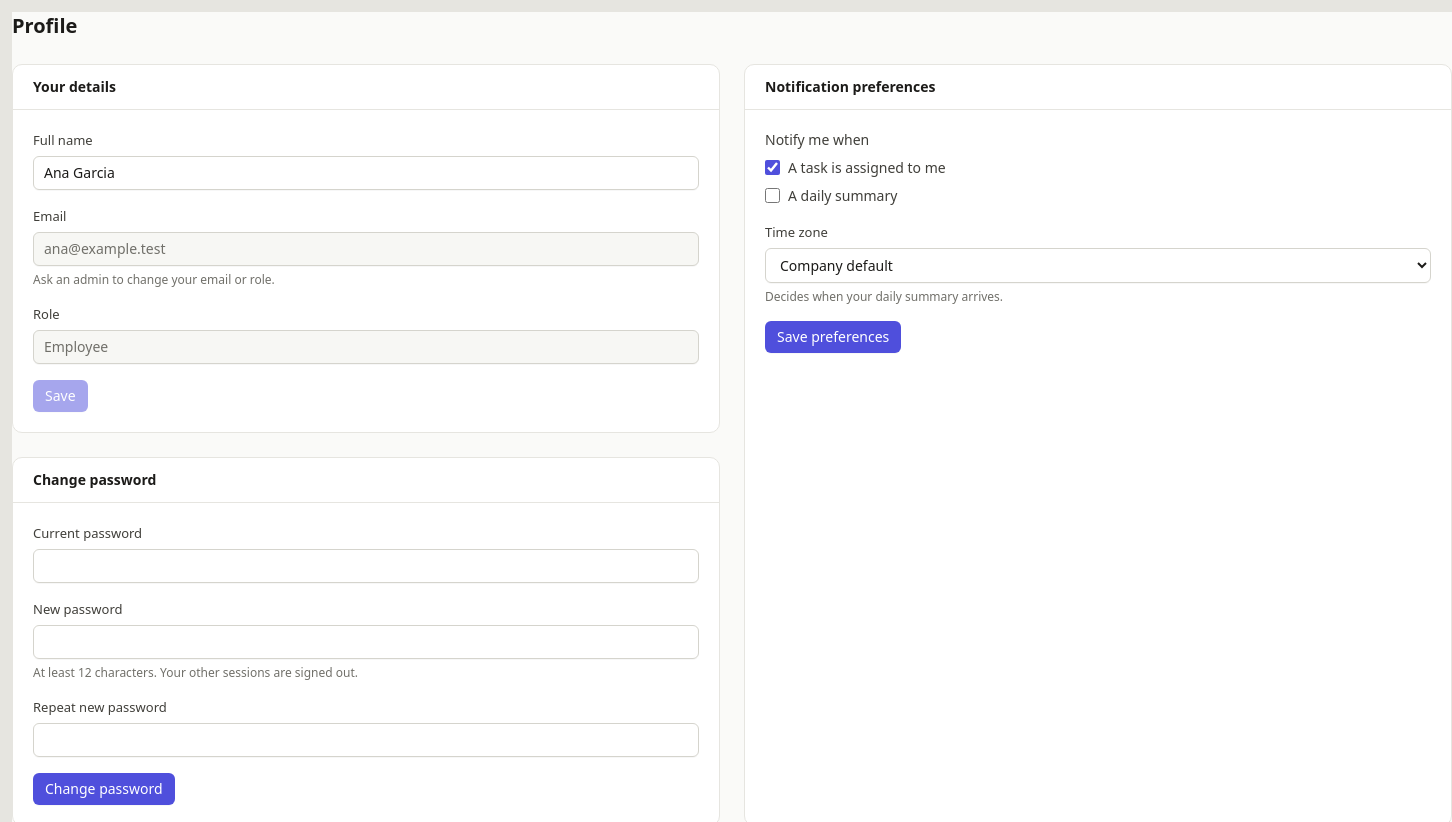
Test: password › shows other failures
Step 1. Type "current" into the password field labelled "Current password" → (366, 566), box [33, 549, 699, 583]
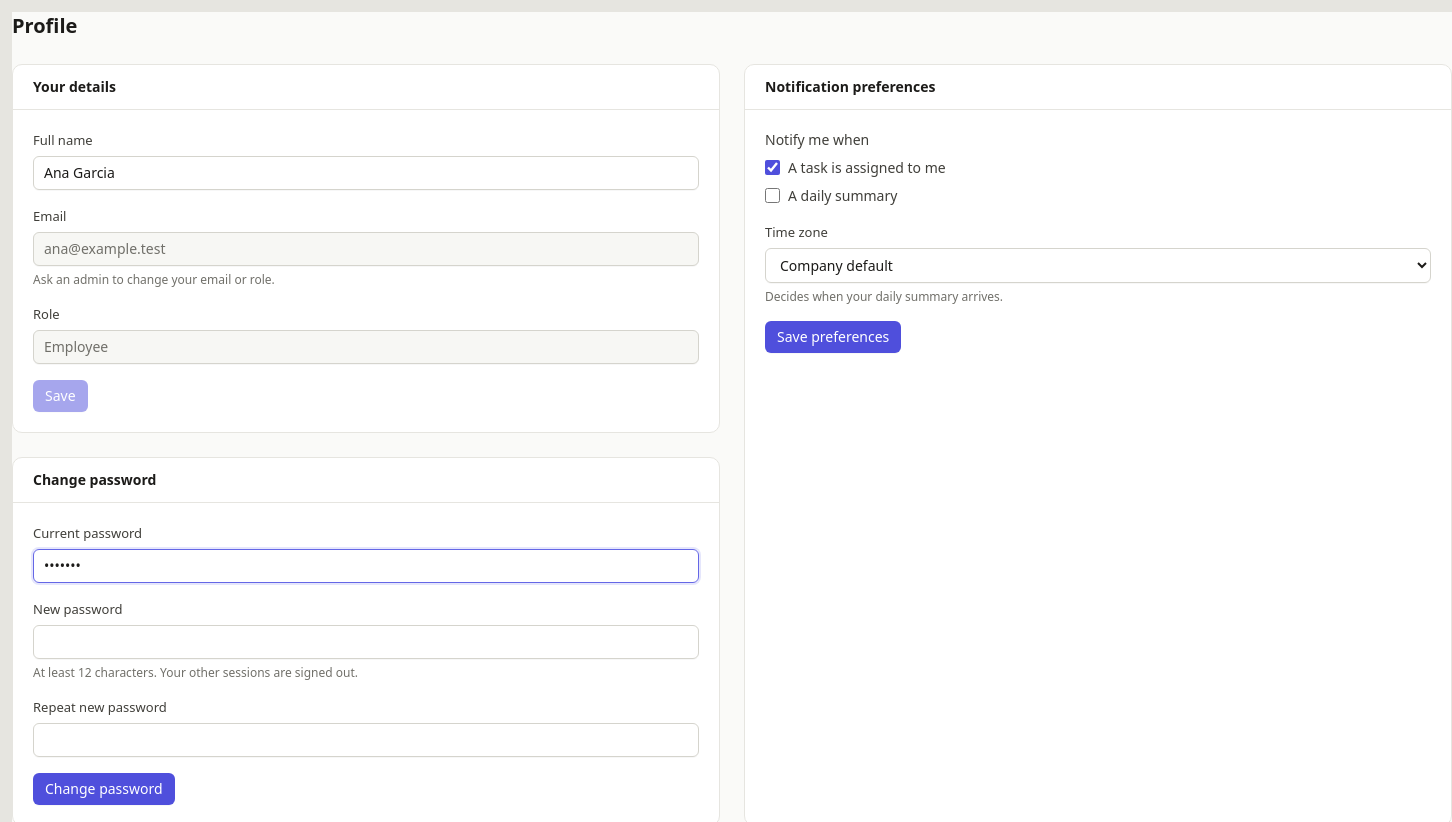
Step 2. Type "a-long-enough-password" into the password field labelled "New password" → (366, 642), box [33, 625, 699, 659]
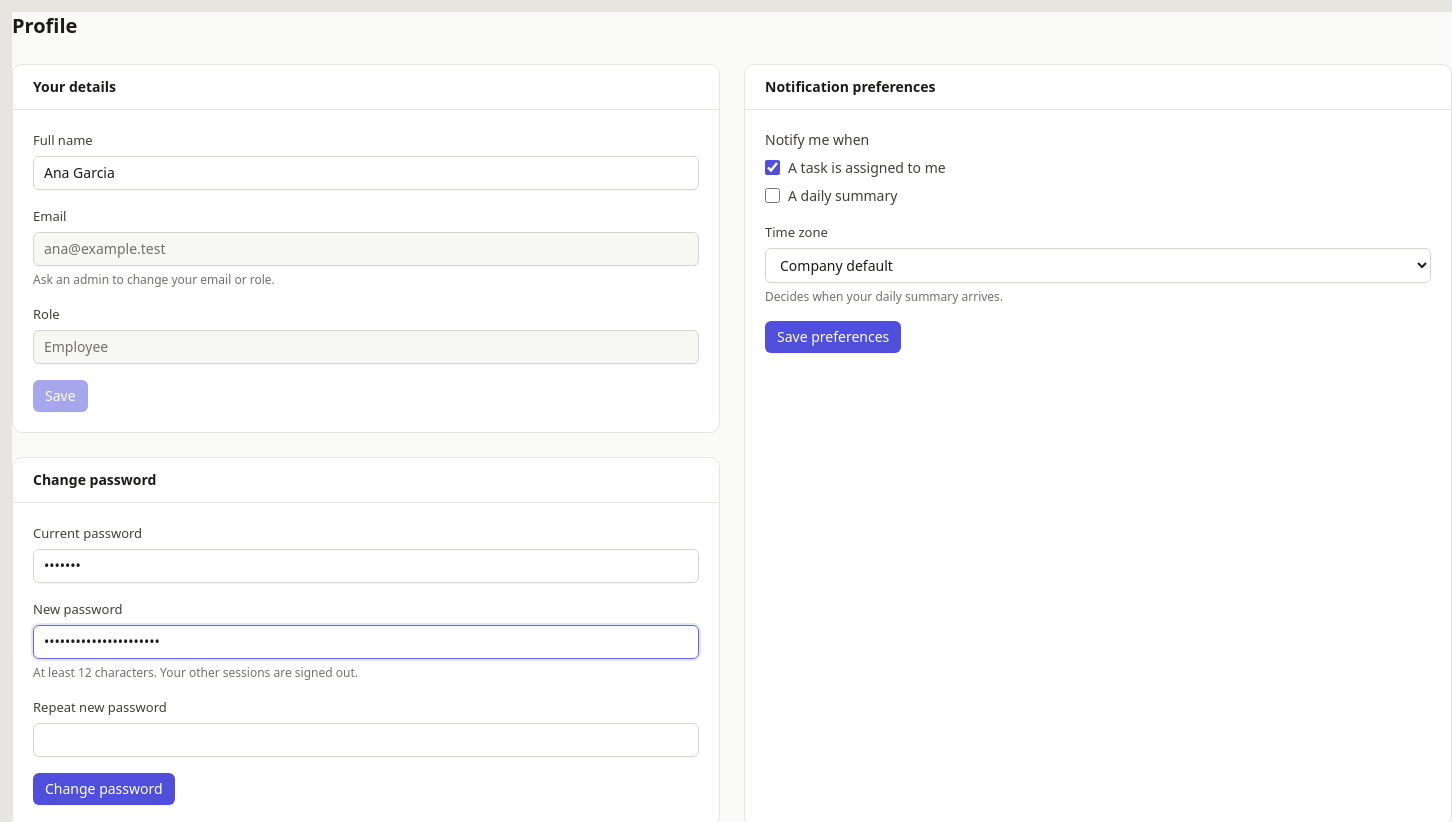
Step 3. Type "a-long-enough-password" into the password field labelled "Repeat new password" → (366, 740), box [33, 723, 699, 757]
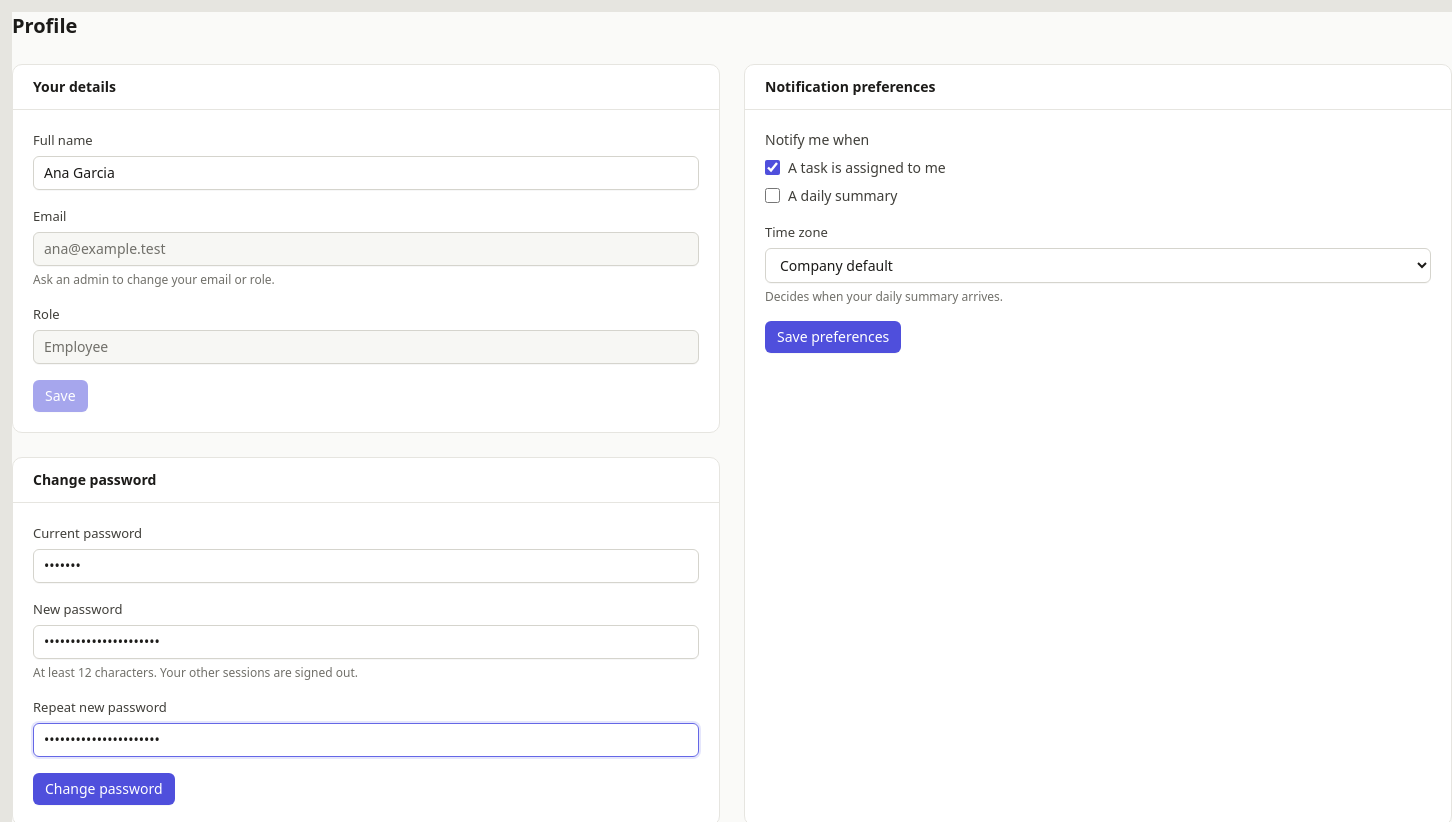
Step 4. Click the button "Change password" → (104, 789), box [33, 773, 175, 805]
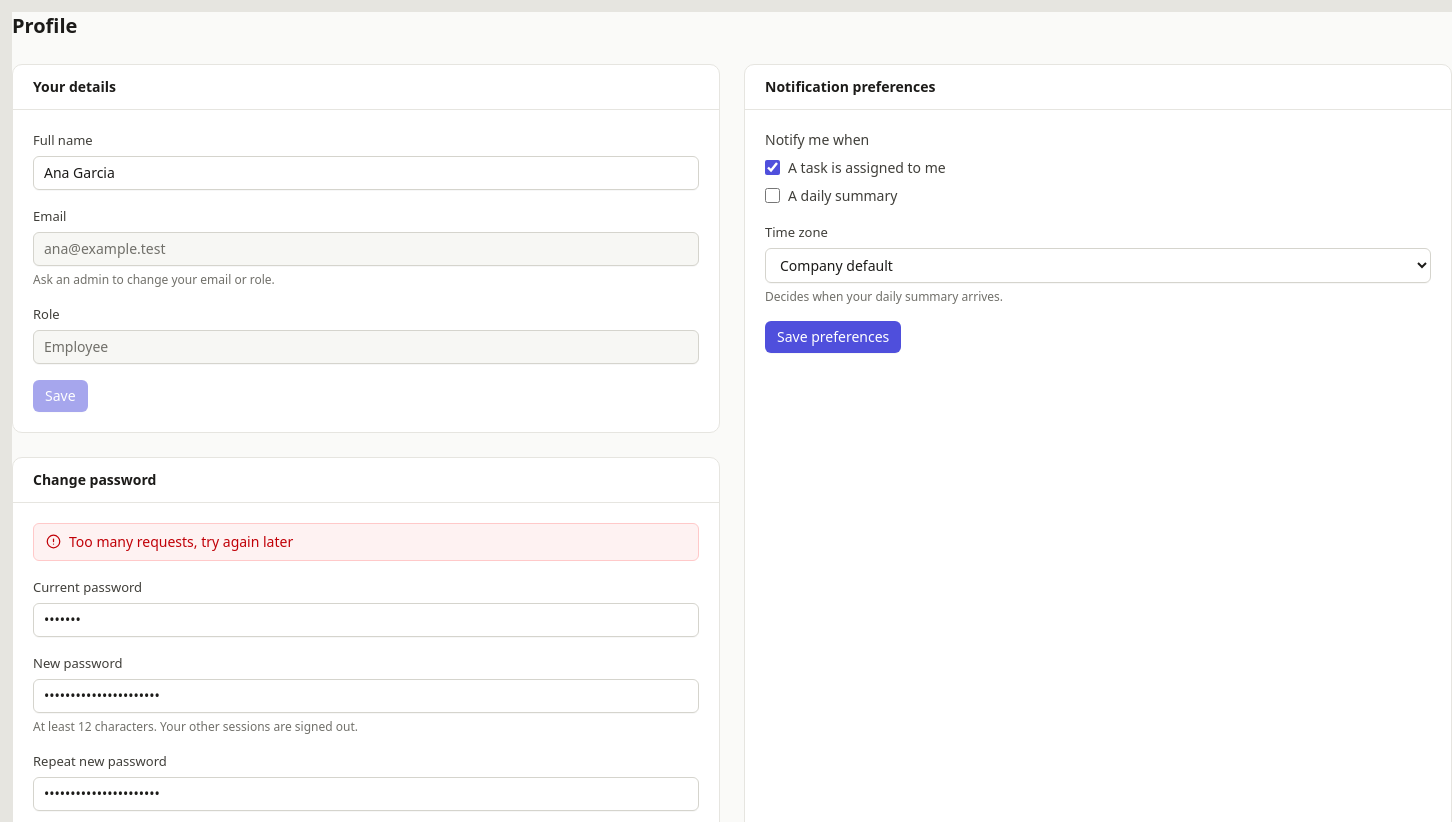
Result: the message shows "Too many requests" at [69, 532, 293, 551]
